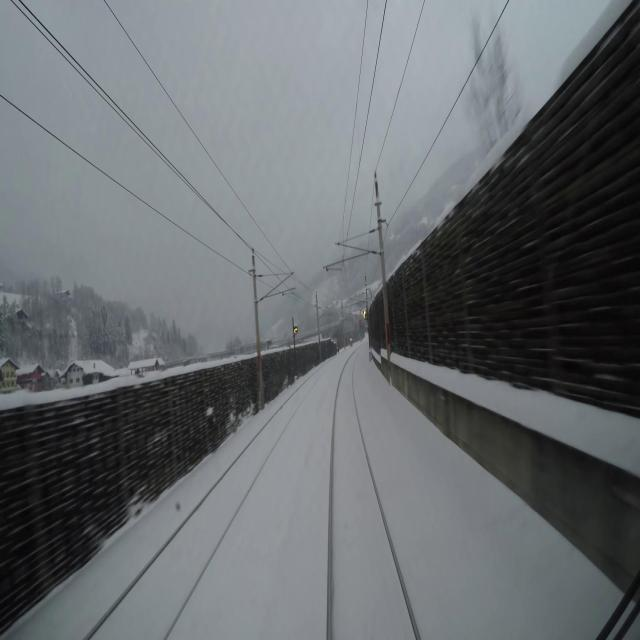rail-track: (91, 368, 324, 639), (332, 354, 415, 639)
